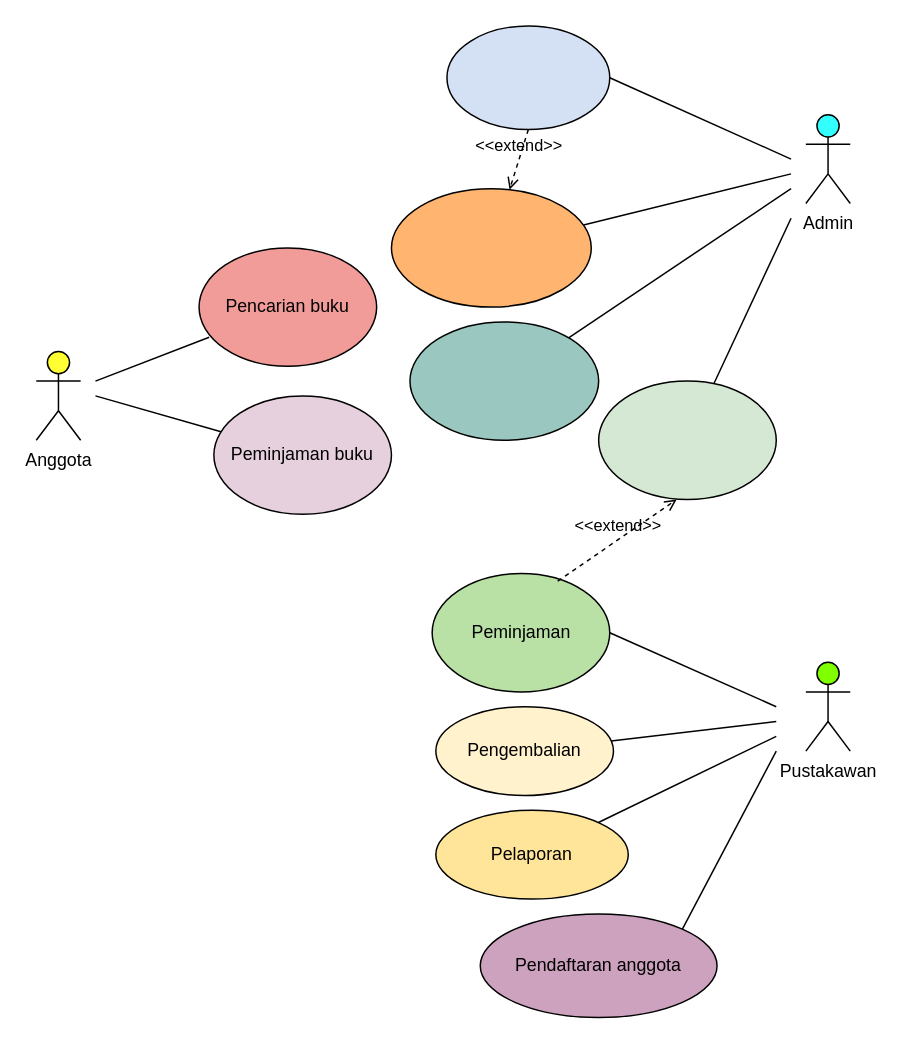
Image size: 901x1043. Some labels were removed from this diagram. The shapes that lost their labels are listed below. From the top down, each one's centre as x and y in pixels, then its label:
At pixel 527 77: "Login".
At pixel 490 247: "Manipulasi data buku".
At pixel 503 380: "Manipulasi data anggota".
At pixel 686 440: "History Peminjaman".
